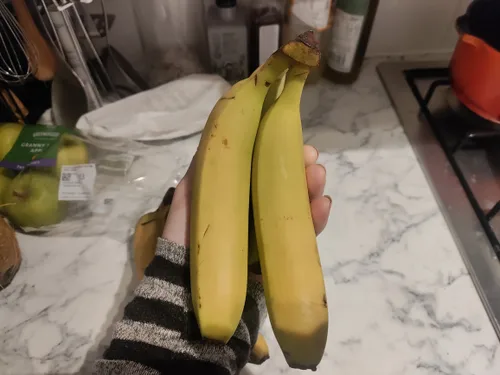banana: (184, 36, 333, 374)
